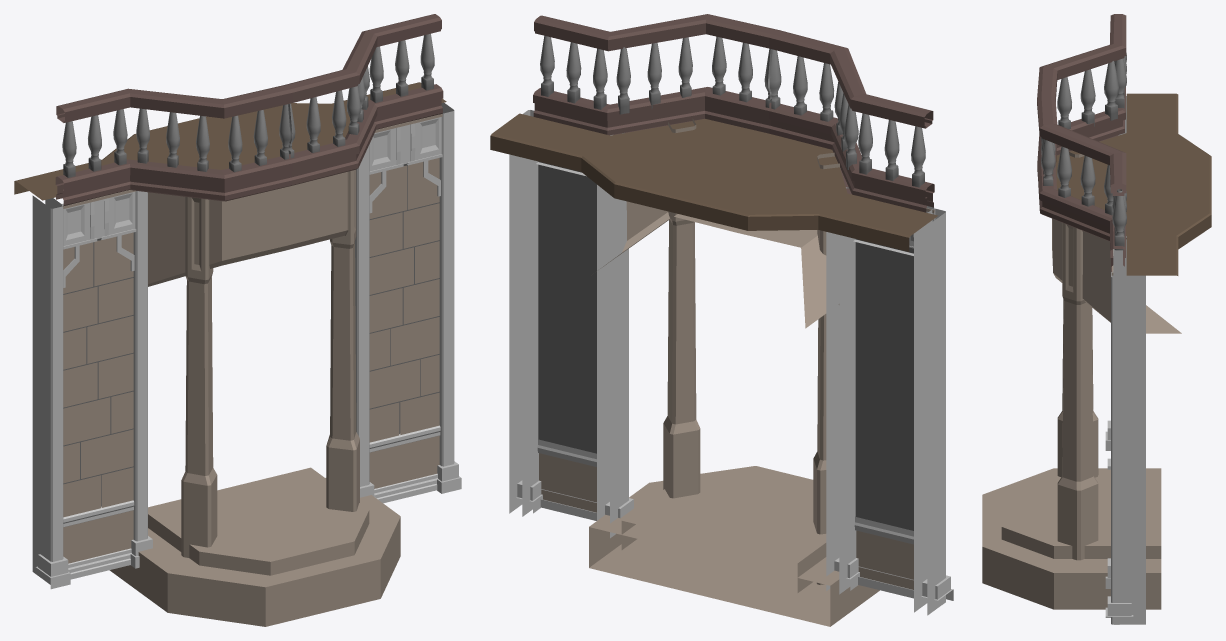
File: StairsDouble3.fbx
The picture shows the model from 3 angles, left to right: view 1: azimuth 30°, elevation 25°; view 2: azimuth 150°, elevation 25°; view 3: azimuth 270°, elevation 25°; orthographic projection. The views are drawn at different scales.
Visible parts, largest first — view 1: StairsDouble; view 2: StairsDouble; view 3: StairsDouble.
Boxes of the visible parts, x1,y1,x2,y2 form: StairsDouble: (14, 14, 461, 626); StairsDouble: (490, 14, 953, 626); StairsDouble: (982, 14, 1211, 624).
Size of the model in its own units: 6.15 by 7.16 by 3.23.
